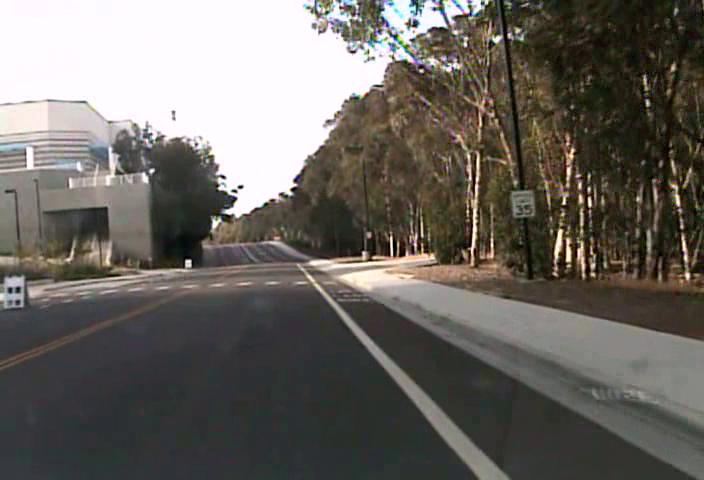speedLimit35: (510, 188, 536, 219)
